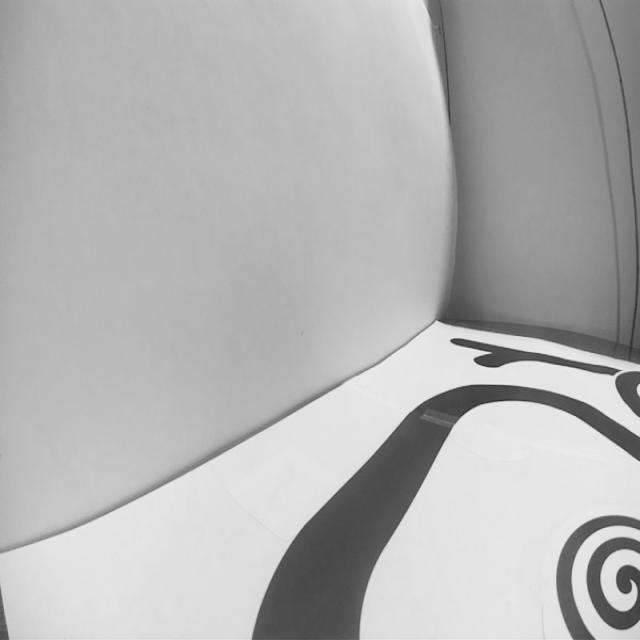laneRightTurn: (242, 468, 428, 640)
